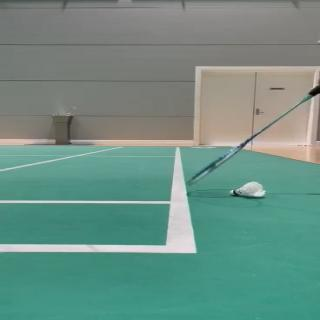Shuttle: (229, 181, 266, 198)
